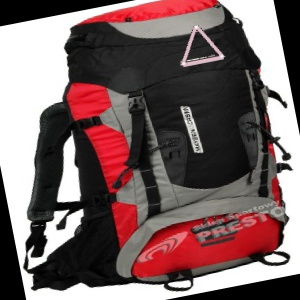triangle: (178, 24, 227, 68)
